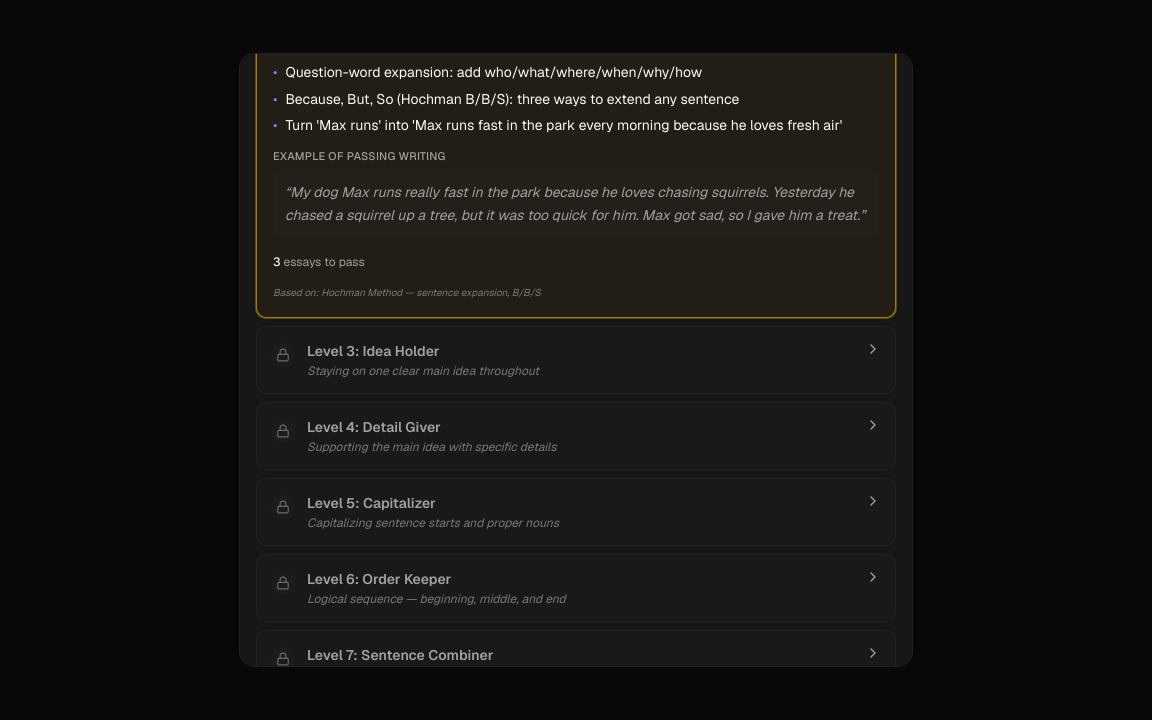
LevelInfoDialog › expands a different level when clicked, replacing the previously expanded one
(page scrolled)
Click the button "Level 3: Idea Holder": point(327, 351) 257,327 -> 895,393
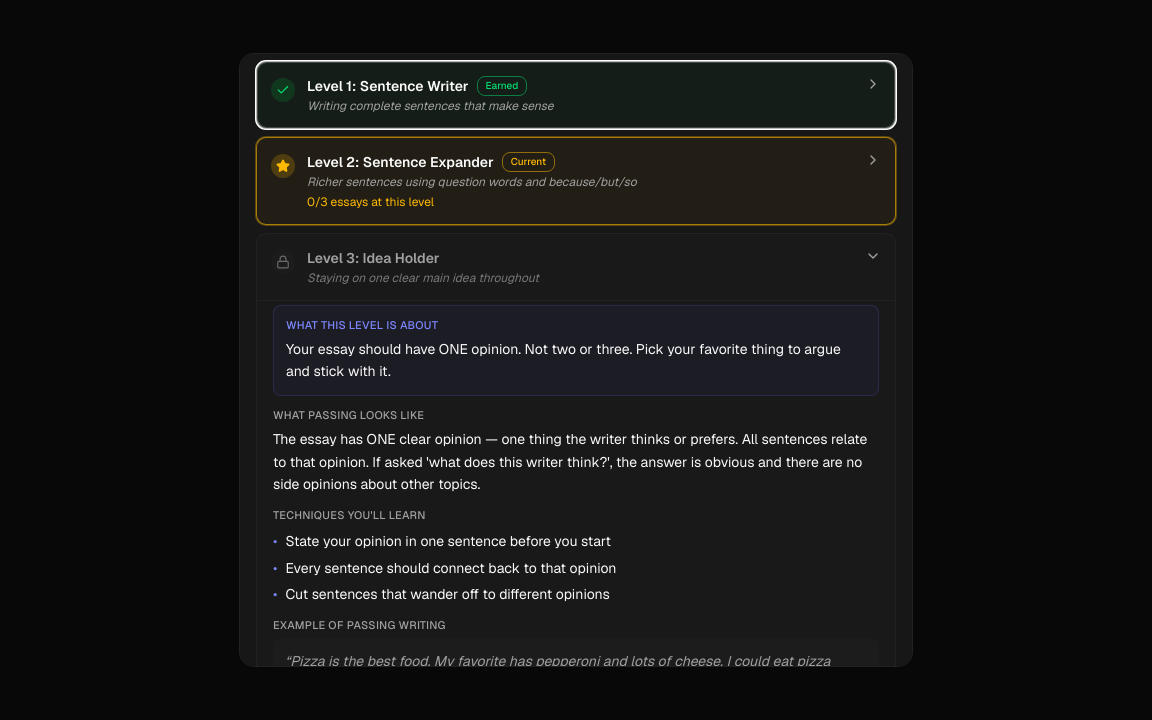
Expected: the text "ONE opinion" is shown, 286,340 -> 841,380
